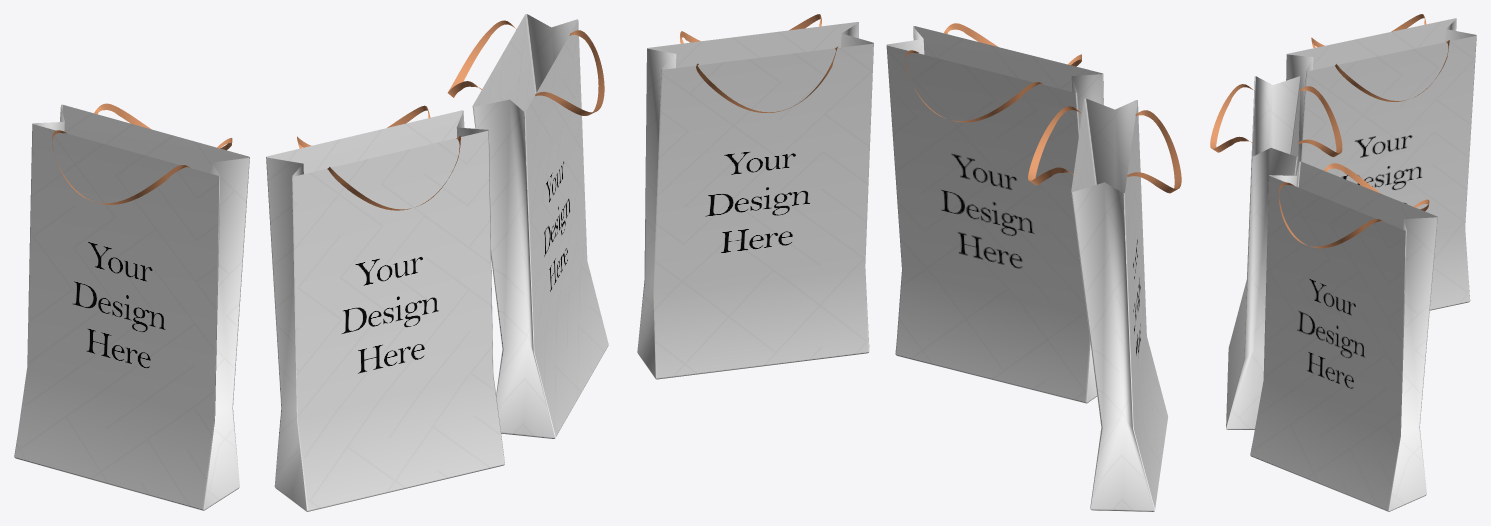
The model's file is Paper Bag A-6.glb.
3 views of the same model, side by side, from view 1: azimuth 30°, elevation 25°; view 2: azimuth 150°, elevation 25°; view 3: azimuth 270°, elevation 25° (orthographic). The views are drawn at different scales.
Parts seen in each view (by area): view 1: Object_2.001, Object_2.003, Object_2.005, Object_2.006, Object_2.004, Object_2.002; view 2: Object_2.005, Object_2.001, Object_2.003, Object_2.004, Object_2.002, Object_2.006; view 3: Object_2.005, Object_2.003, Object_2.001, Object_2.002, Object_2.006, Object_2.004.
Part boxes in pixels (x1=…): Object_2.001: x1=266, y1=110, x2=504, y2=511; Object_2.003: x1=14, y1=104, x2=249, y2=510; Object_2.005: x1=472, y1=14, x2=608, y2=438; Object_2.006: x1=447, y1=20, x2=604, y2=115; Object_2.004: x1=52, y1=103, x2=232, y2=204; Object_2.002: x1=297, y1=105, x2=460, y2=210; Object_2.005: x1=637, y1=22, x2=873, y2=379; Object_2.001: x1=886, y1=26, x2=1103, y2=403; Object_2.003: x1=1071, y1=98, x2=1167, y2=511; Object_2.004: x1=1028, y1=106, x2=1181, y2=193; Object_2.002: x1=905, y1=23, x2=1081, y2=122; Object_2.006: x1=680, y1=14, x2=838, y2=112; Object_2.005: x1=1250, y1=161, x2=1437, y2=511; Object_2.003: x1=1286, y1=18, x2=1476, y2=310; Object_2.001: x1=1226, y1=76, x2=1300, y2=429; Object_2.002: x1=1210, y1=84, x2=1342, y2=156; Object_2.006: x1=1279, y1=163, x2=1429, y2=248; Object_2.004: x1=1311, y1=14, x2=1449, y2=101.
Bounding box in the file's own units: 10.16 × 5.73 × 4.96.
2 materials, 1 textured.
